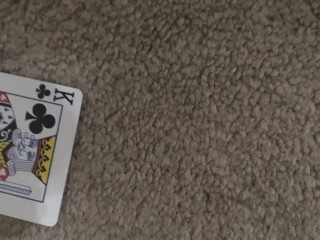KingOfClubs: (1, 72, 82, 226)
